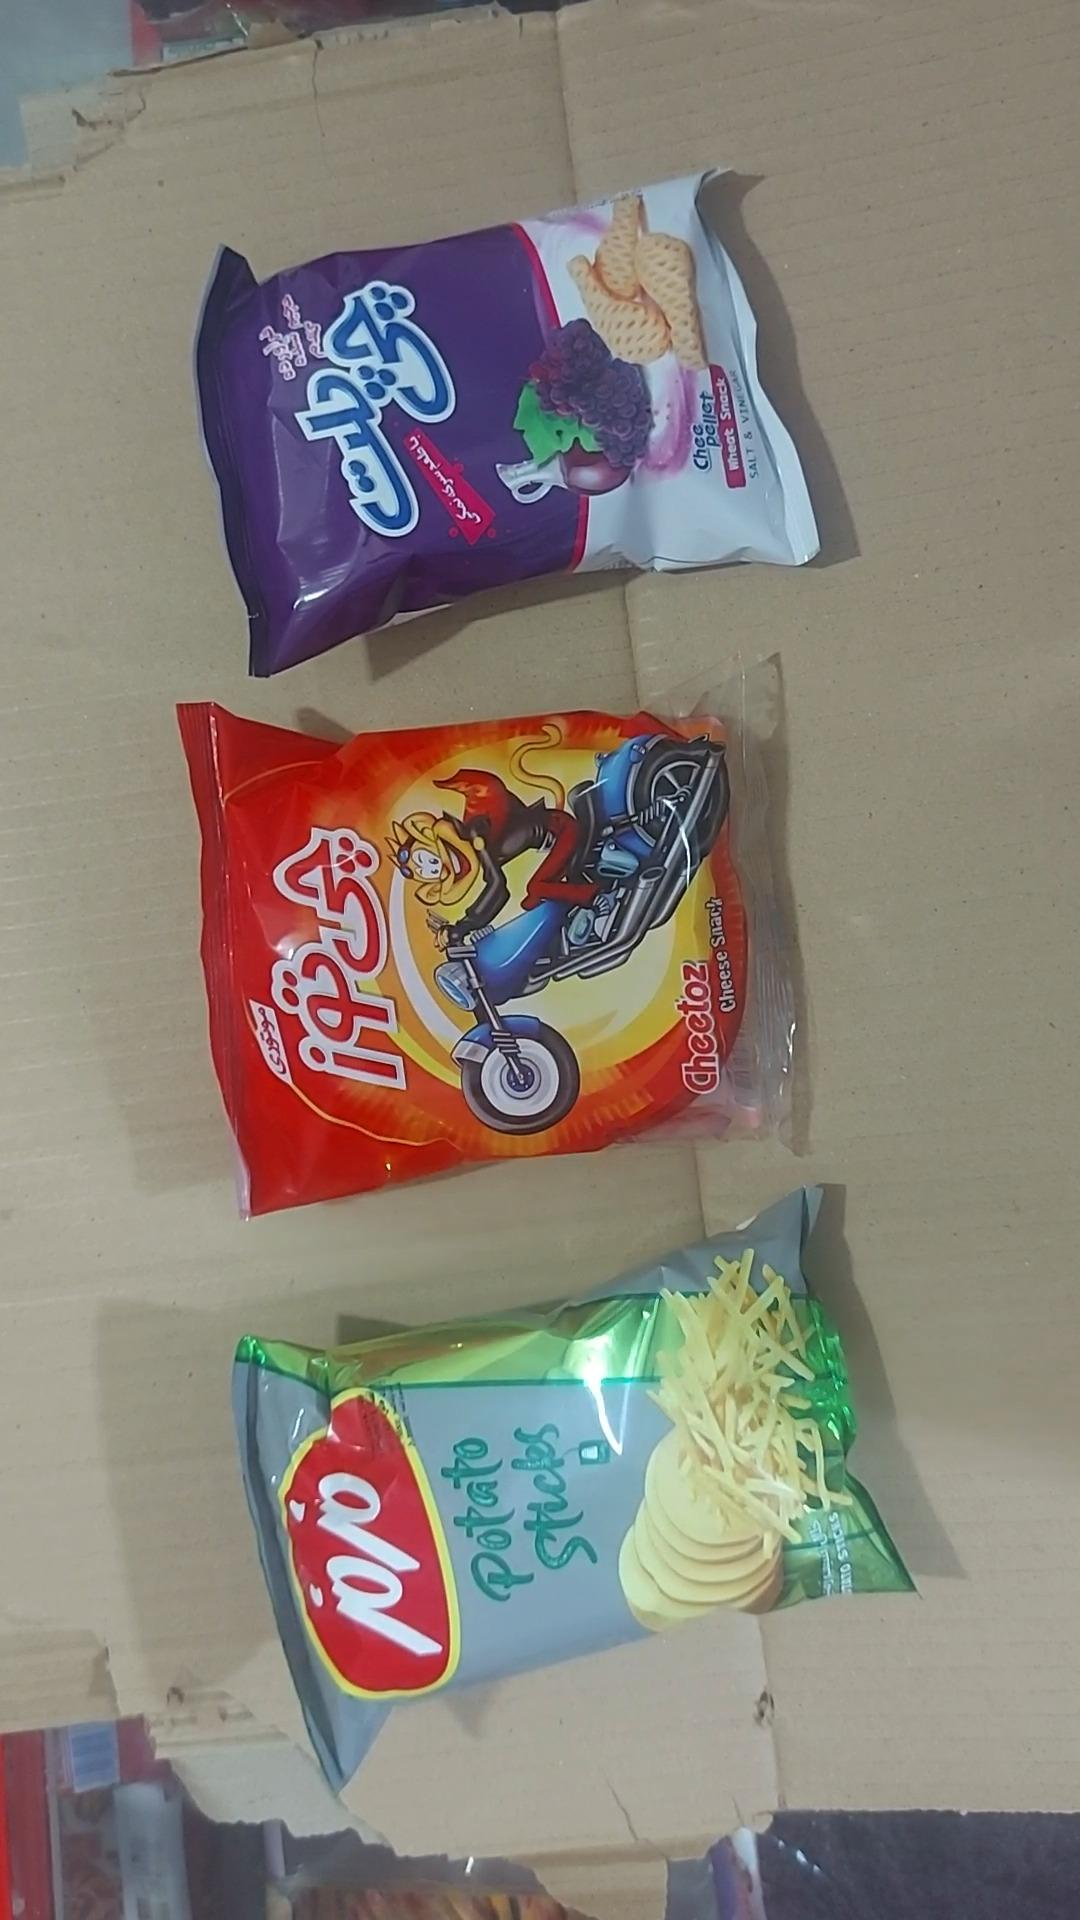Chee pellet vinegar: (193, 167, 822, 680)
Cheetoz snack 30g: (175, 655, 806, 1222)
Maz Maz potato sticks: (231, 1185, 920, 1801)
